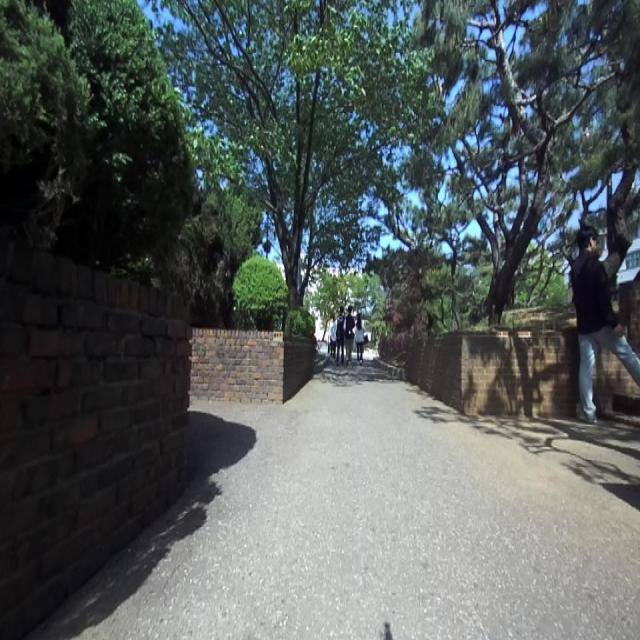sidewalk: (30, 358, 640, 639)
